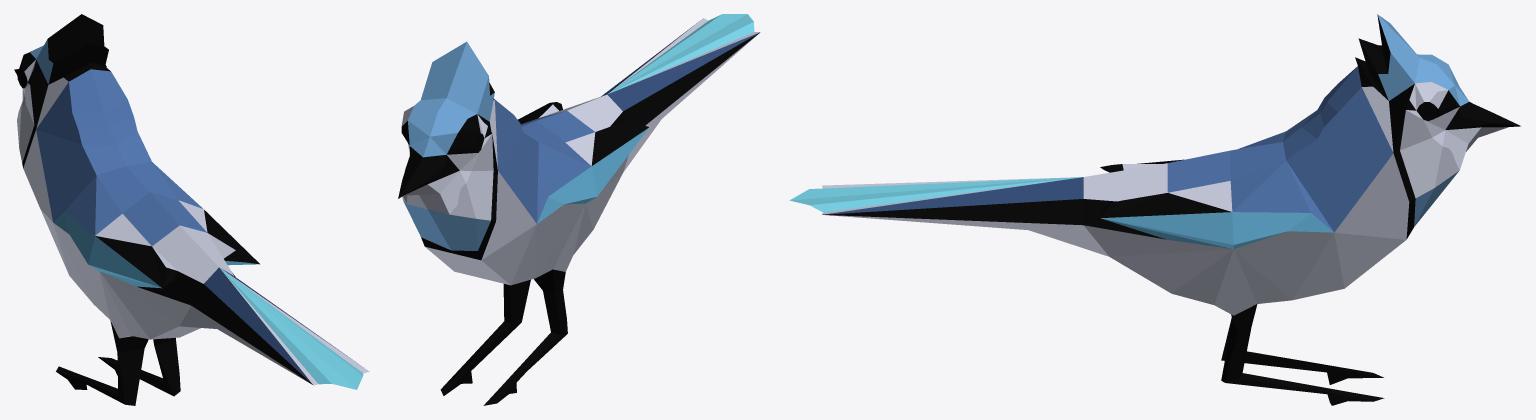
Rendered from blue_jay.glb.
3 renders of one model, left to right at view 1: azimuth 30°, elevation 25°; view 2: azimuth 150°, elevation 25°; view 3: azimuth 270°, elevation 25°, orthographic. The views are drawn at different scales.
Visible parts, largest first — view 1: Cube_0; view 2: Cube_0; view 3: Cube_0.
Part boxes in pixels (x1,y1,x2,y2): Cube_0: [14, 14, 369, 405]; Cube_0: [398, 14, 760, 405]; Cube_0: [789, 14, 1520, 405].
Size of the model in its own units: 0.8227 by 2.3 by 4.03.
